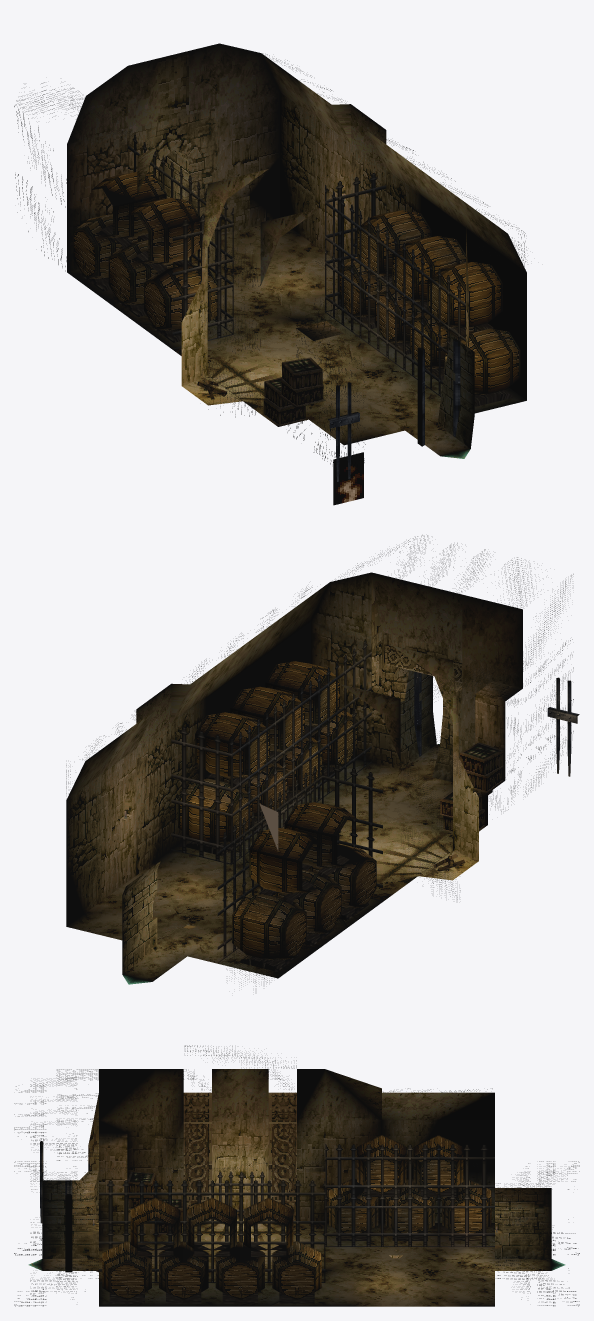
The model's file is MAP009.gltf.
The picture shows the model from 3 angles, top to bottom: view 1: azimuth 30°, elevation 25°; view 2: azimuth 150°, elevation 25°; view 3: azimuth 270°, elevation 25°; orthographic projection. The views are drawn at different scales.
Bounding box in the file's own units: 118 × 86 × 256.
90 materials, 90 textured.
